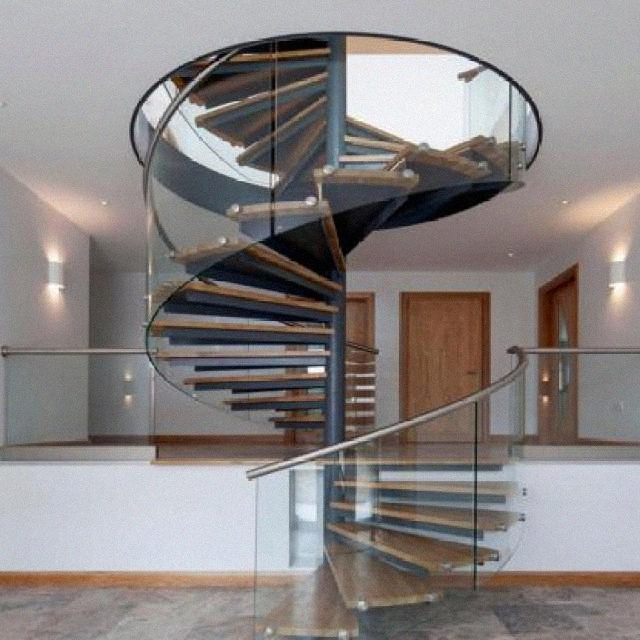stair: (130, 45, 545, 640)
